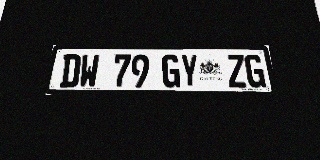7: (111, 54, 131, 88)
9: (130, 54, 149, 88)
D: (59, 54, 81, 88)
G: (244, 54, 266, 88), (162, 54, 180, 88)
W: (78, 54, 100, 88)
Y: (180, 54, 199, 88)
Z: (226, 54, 247, 88)
